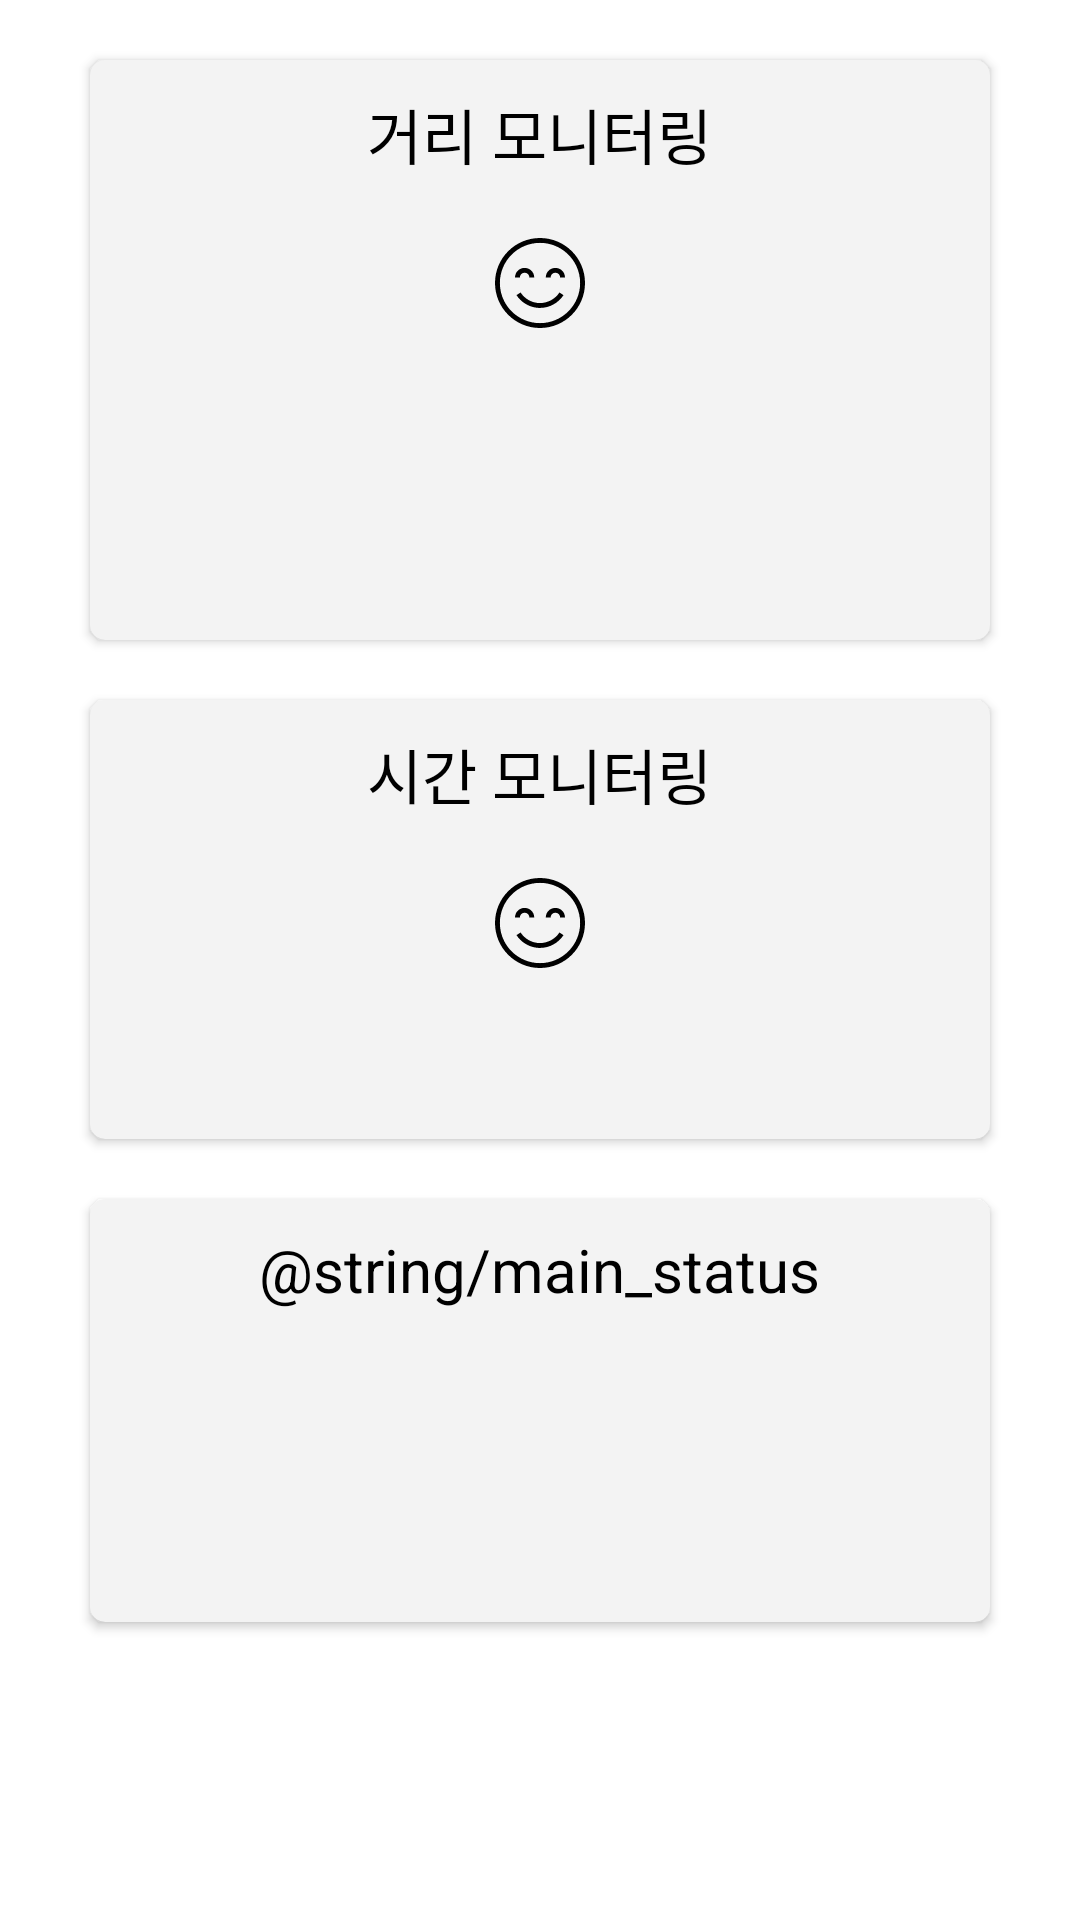

Screen size 1080 × 1920. Icon name, then its center in pixels as [x,y]:
grade smile: [540,283], [540,923]
